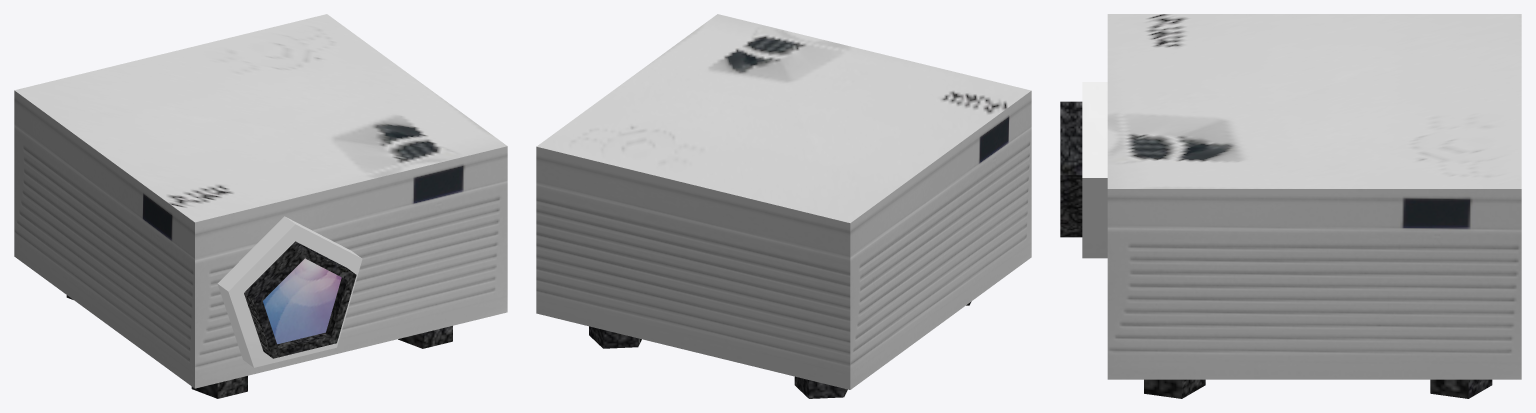
Rendered from projector2.gltf.
3 renders of one model, left to right at view 1: azimuth 30°, elevation 25°; view 2: azimuth 150°, elevation 25°; view 3: azimuth 270°, elevation 25°, orthographic. The views are drawn at different scales.
Parts seen in each view (by area): view 1: Cylinder; view 2: Cylinder; view 3: Cylinder.
Boxes of the visible parts, x1,y1,x2,y2 form: Cylinder: (14,14,507,398); Cylinder: (536,14,1031,398); Cylinder: (1060,14,1521,398).
Size of the model in its own units: 2 by 1.21 by 2.23.
1 material, 1 textured.
